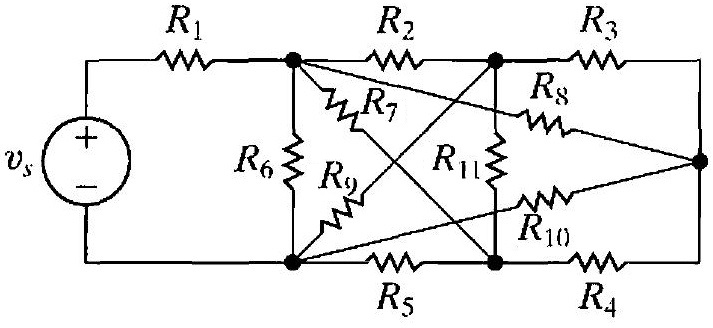resistor: (146, 42, 223, 80), (313, 80, 365, 134), (510, 179, 583, 217), (554, 44, 634, 78), (274, 125, 309, 199), (559, 246, 633, 279), (315, 189, 368, 235), (479, 127, 512, 195), (359, 44, 429, 76), (360, 246, 429, 278), (519, 108, 578, 142)
voltage: (37, 110, 138, 214)
